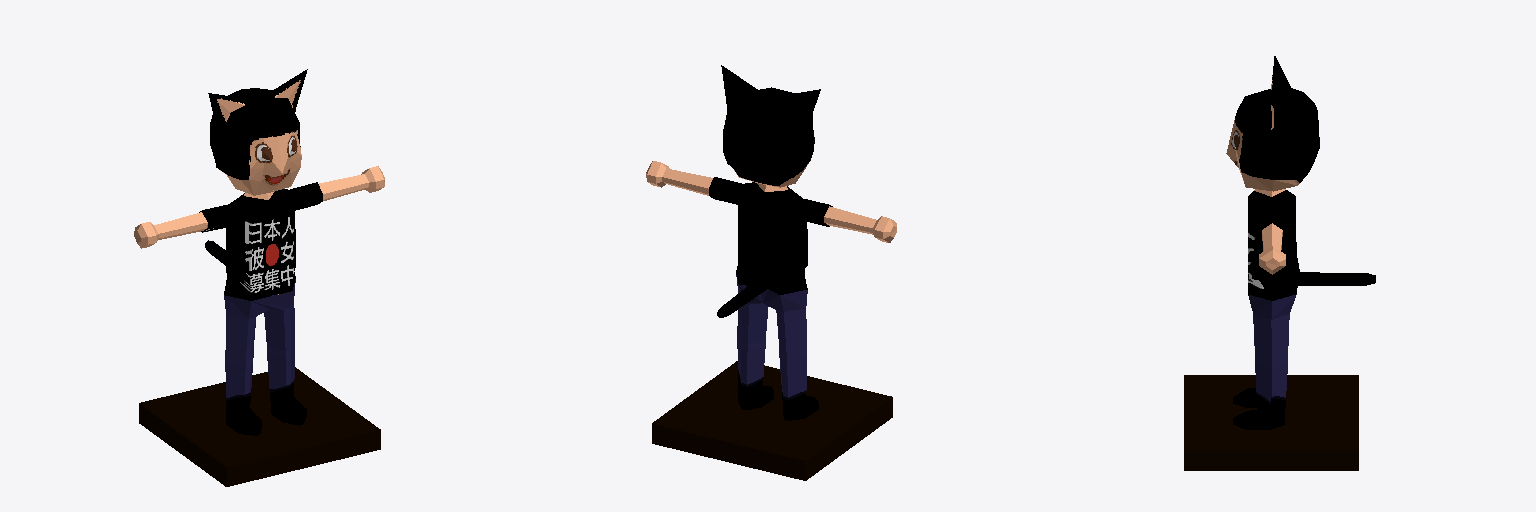
3 renders of one model, left to right at view 1: azimuth 30°, elevation 25°; view 2: azimuth 150°, elevation 25°; view 3: azimuth 270°, elevation 25°, orthographic.
Parts seen in each view (by area): view 1: Cube_me_b, Cube.002_Cube, Cube.001_Cube.002; view 2: Cube_me_b, Cube.002_Cube, Cube.001_Cube.002; view 3: Cube.002_Cube, Cube_me_b, Cube.001_Cube.002.
Part boxes in pixels (x1,y1,x2,y2): Cube_me_b: (134, 166, 384, 435); Cube.002_Cube: (139, 367, 380, 486); Cube.001_Cube.002: (208, 69, 307, 195); Cube_me_b: (646, 161, 896, 420); Cube.002_Cube: (652, 361, 892, 480); Cube.001_Cube.002: (721, 65, 820, 187); Cube.002_Cube: (1184, 375, 1358, 470); Cube_me_b: (1233, 189, 1375, 429); Cube.001_Cube.002: (1226, 56, 1319, 191).
Size of the model in its own units: 0.9975 by 1.38 by 0.6783.
Materials: 3 (2 with a texture image).